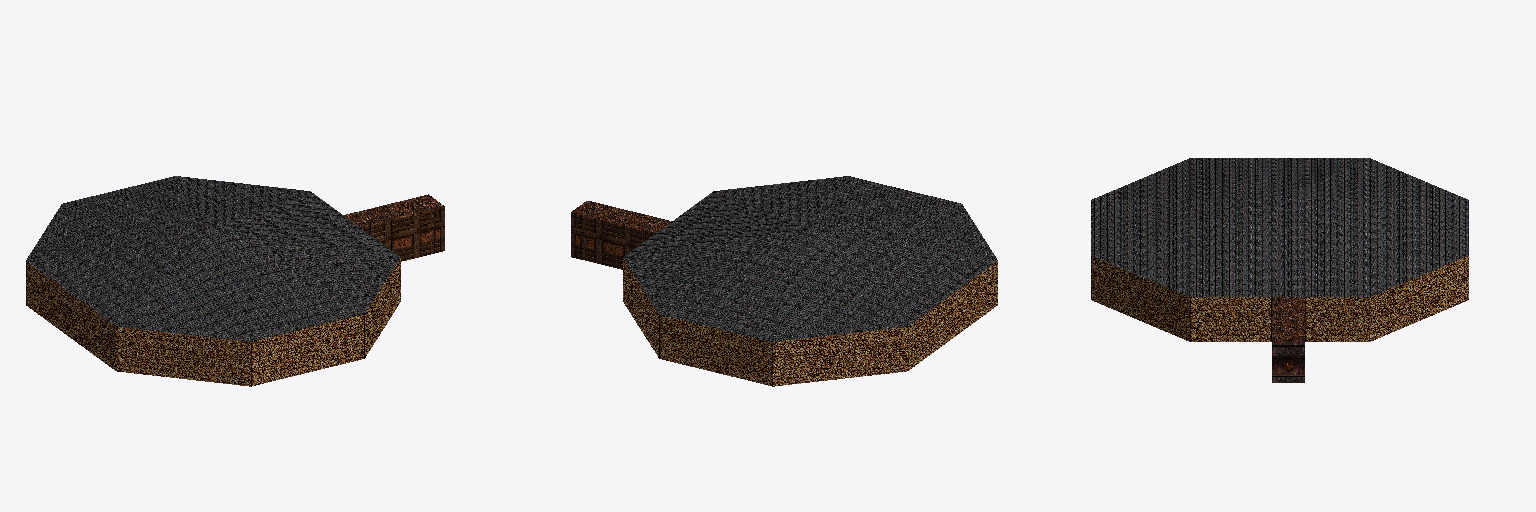
3 views of the same model, side by side, from view 1: azimuth 30°, elevation 25°; view 2: azimuth 150°, elevation 25°; view 3: azimuth 270°, elevation 25° (orthographic).
Parts seen in each view (by area): view 1: Room1, Room2; view 2: Room1, Room2; view 3: Room1, Room2.
Boxes of the visible parts, x1,y1,x2,y2 form: Room1: [26, 176, 400, 386]; Room2: [344, 194, 444, 261]; Room1: [623, 176, 997, 386]; Room2: [571, 201, 671, 269]; Room1: [1091, 158, 1468, 341]; Room2: [1272, 297, 1304, 382].
Size of the model in its own units: 3328 by 640 by 2944.
Materials: 14 (13 with a texture image).